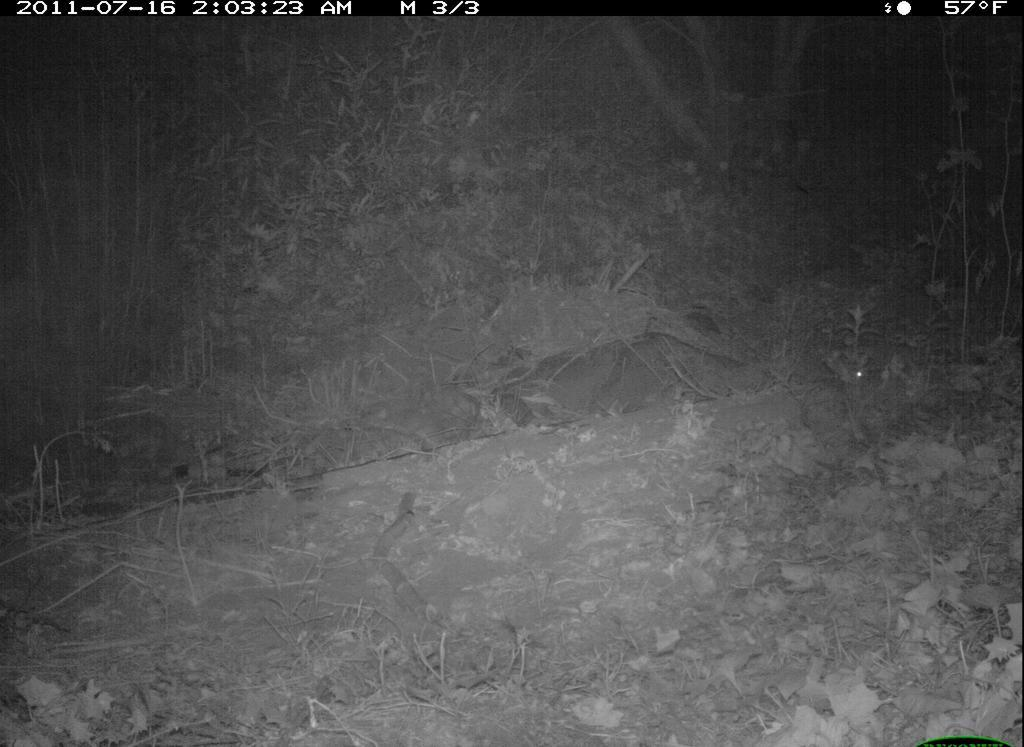rabbit: (786, 341, 885, 443)
